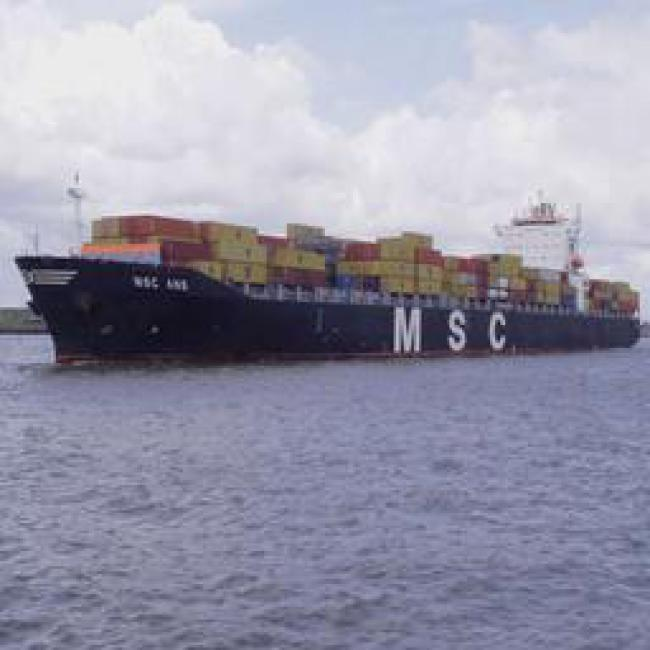Ship: (11, 214, 639, 369)
